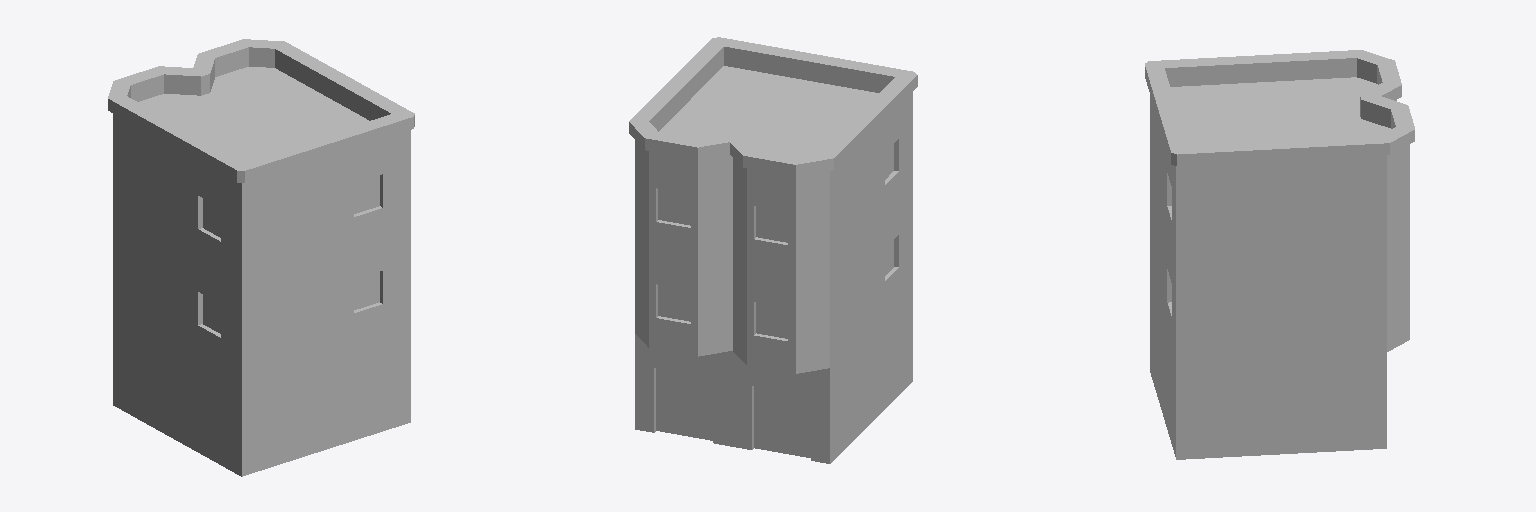
The model's file is variant_1.obj.
3 renders of one model, left to right at view 1: azimuth 30°, elevation 25°; view 2: azimuth 150°, elevation 25°; view 3: azimuth 270°, elevation 25°, orthographic.
Visible parts, largest first — view 1: Building; view 2: Building; view 3: Building.
Boxes of the visible parts, x1=… form: Building: x1=108, y1=39, x2=414, y2=476; Building: x1=629, y1=37, x2=917, y2=463; Building: x1=1145, y1=50, x2=1414, y2=459.
Size of the model in its own units: 0.9347 by 1.28 by 1.02.